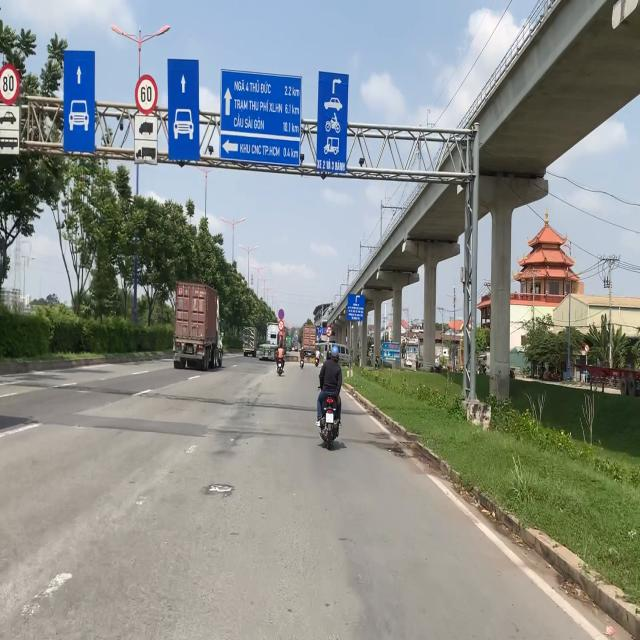Toc do toi da: (135, 74, 159, 111), (0, 62, 21, 104)
